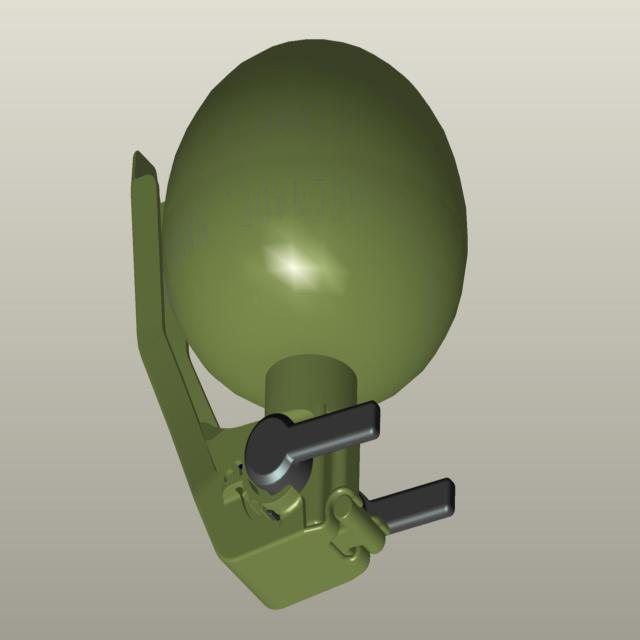grenade: (132, 39, 470, 611)
